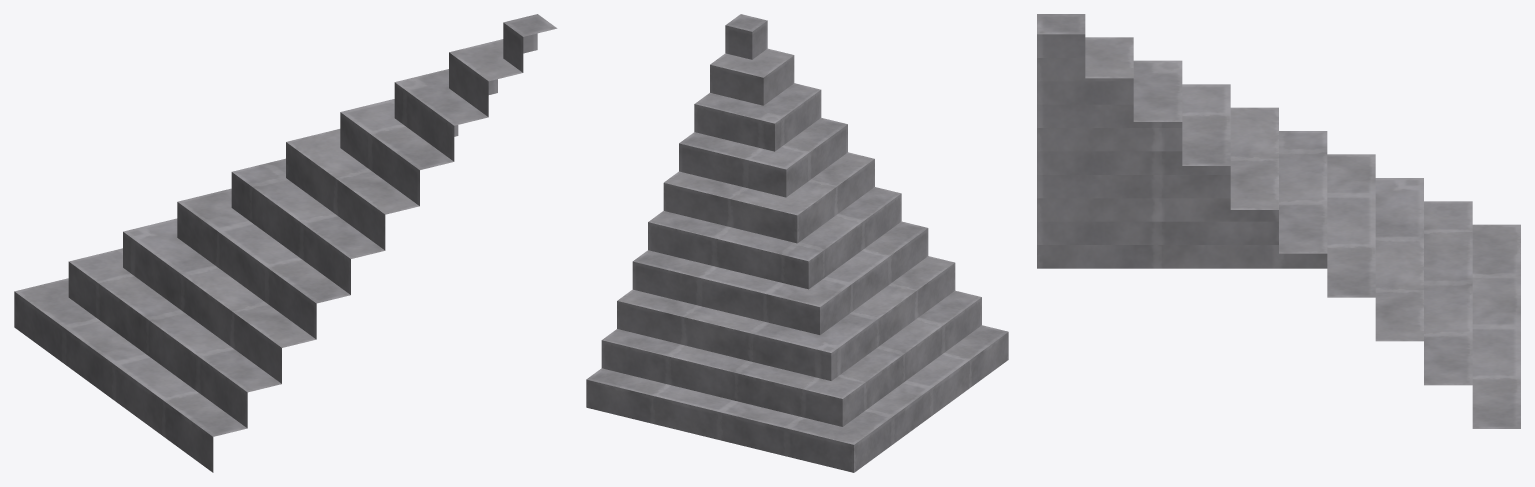
Rendered from Stair_2h_G_Corner.fbx.
The picture shows the model from 3 angles, left to right: view 1: azimuth 30°, elevation 25°; view 2: azimuth 150°, elevation 25°; view 3: azimuth 270°, elevation 25°; orthographic projection. The views are drawn at different scales.
Visible parts, largest first — view 1: Stair_2h_G_Corner; view 2: Stair_2h_G_Corner; view 3: Stair_2h_G_Corner.
Boxes of the visible parts, left/top/right/bottom form: Stair_2h_G_Corner: left=14, top=14, right=557, bottom=472; Stair_2h_G_Corner: left=586, top=14, right=1008, bottom=472; Stair_2h_G_Corner: left=1037, top=14, right=1520, bottom=428.
Bounding box in the file's own units: 2 × 2 × 2.
